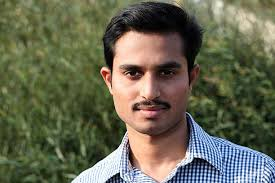Indian_Male: (108, 46, 181, 128)
